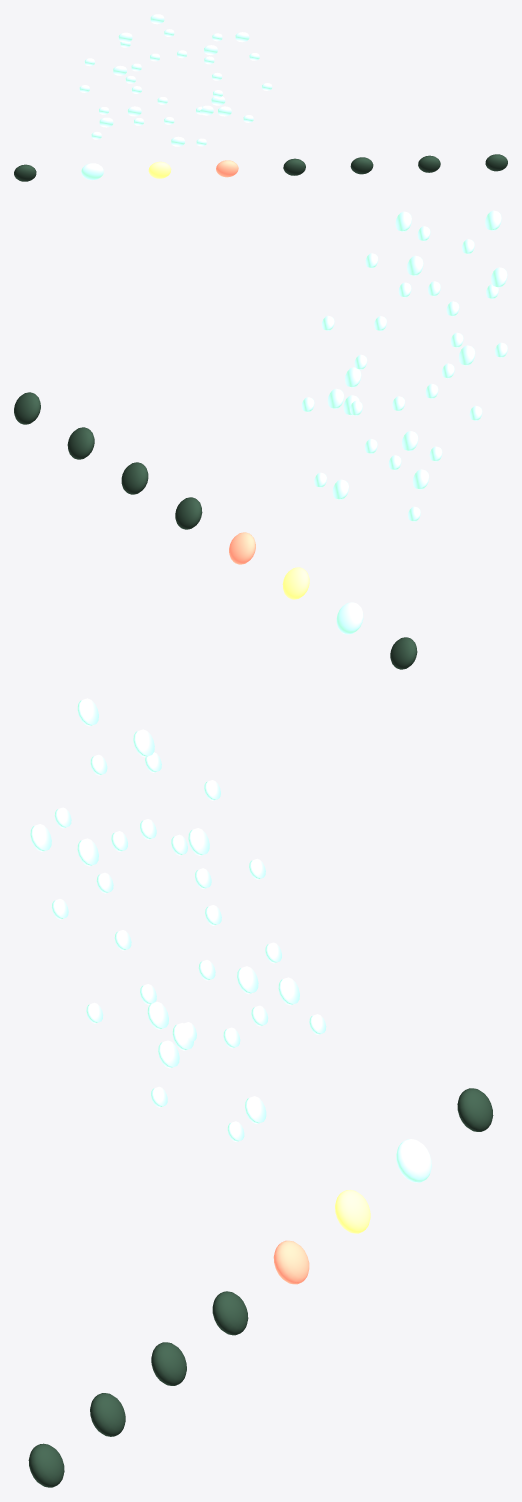
Rendered from qtype.glb.
3 views of the same model, one above another, from view 1: azimuth 30°, elevation 25°; view 2: azimuth 150°, elevation 25°; view 3: azimuth 270°, elevation 25° (orthographic). The views are drawn at different scales.
Parts seen in each view (by area): view 1: dnsm_lamp_dome_3, dnsm_lamp_dome_4, dnsm_lamp_dome_5, dnsm_lamp_dome_1, dnsm_lamp_dome_2, dnsm_lamp_dome_7, dnsm_lamp_dome_0, dnsm_lamp_dome_6; view 2: dnsm_lamp_dome_1, dnsm_lamp_dome_5, dnsm_lamp_dome_0, dnsm_lamp_dome_6, dnsm_lamp_dome_3, dnsm_lamp_dome_2, dnsm_lamp_dome_4, dnsm_lamp_dome_7; view 3: dnsm_lamp_dome_3, dnsm_lamp_dome_4, dnsm_lamp_dome_2, dnsm_lamp_dome_7, dnsm_lamp_dome_6, dnsm_lamp_dome_5, dnsm_lamp_dome_0, dnsm_lamp_dome_1.
Boxes of the visible parts, x1,y1,x2,y2 form: dnsm_lamp_dome_3: (216,160,238,177); dnsm_lamp_dome_4: (283,158,305,175); dnsm_lamp_dome_5: (350,157,373,174); dnsm_lamp_dome_1: (81,163,103,180); dnsm_lamp_dome_2: (148,161,171,178); dnsm_lamp_dome_7: (485,154,507,171); dnsm_lamp_dome_0: (14,164,36,181); dnsm_lamp_dome_6: (418,155,440,172); dnsm_lamp_dome_1: (336,602,363,634); dnsm_lamp_dome_5: (121,462,148,494); dnsm_lamp_dome_0: (390,637,417,669); dnsm_lamp_dome_6: (67,427,94,459); dnsm_lamp_dome_3: (229,532,255,564); dnsm_lamp_dome_2: (282,567,309,599); dnsm_lamp_dome_4: (175,497,202,529); dnsm_lamp_dome_7: (14,392,40,424); dnsm_lamp_dome_3: (273,1240,309,1284); dnsm_lamp_dome_4: (212,1291,248,1335); dnsm_lamp_dome_2: (335,1189,370,1233); dnsm_lamp_dome_7: (28,1443,64,1487); dnsm_lamp_dome_6: (90,1393,125,1436); dnsm_lamp_dome_5: (151,1342,186,1385); dnsm_lamp_dome_0: (457,1088,493,1131); dnsm_lamp_dome_1: (396,1139,431,1182).
Size of the model in its own units: 0.2966 by 0.1715 by 0.1558.
